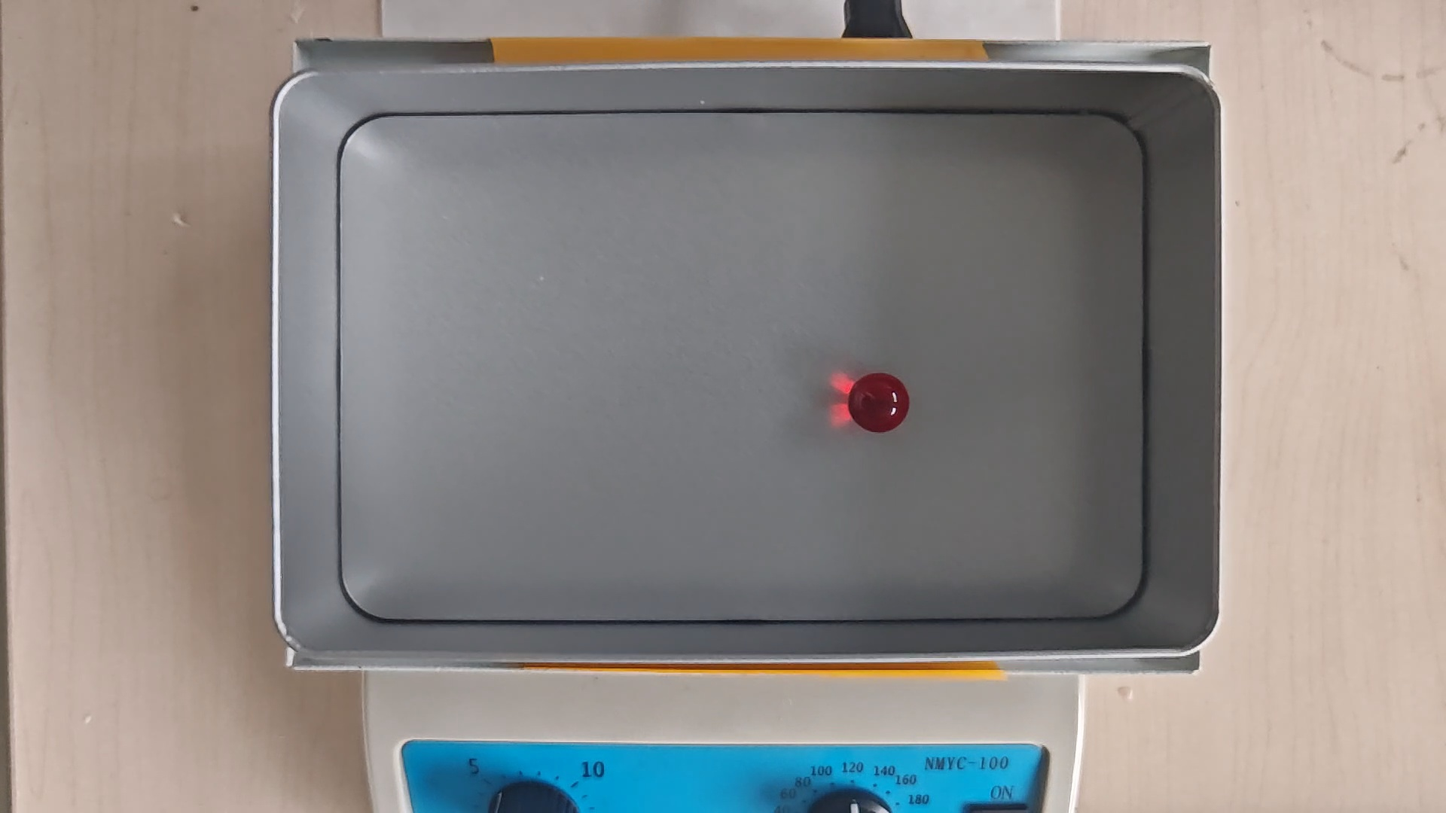ball: (850, 373, 909, 435)
container: (340, 112, 1146, 622)
